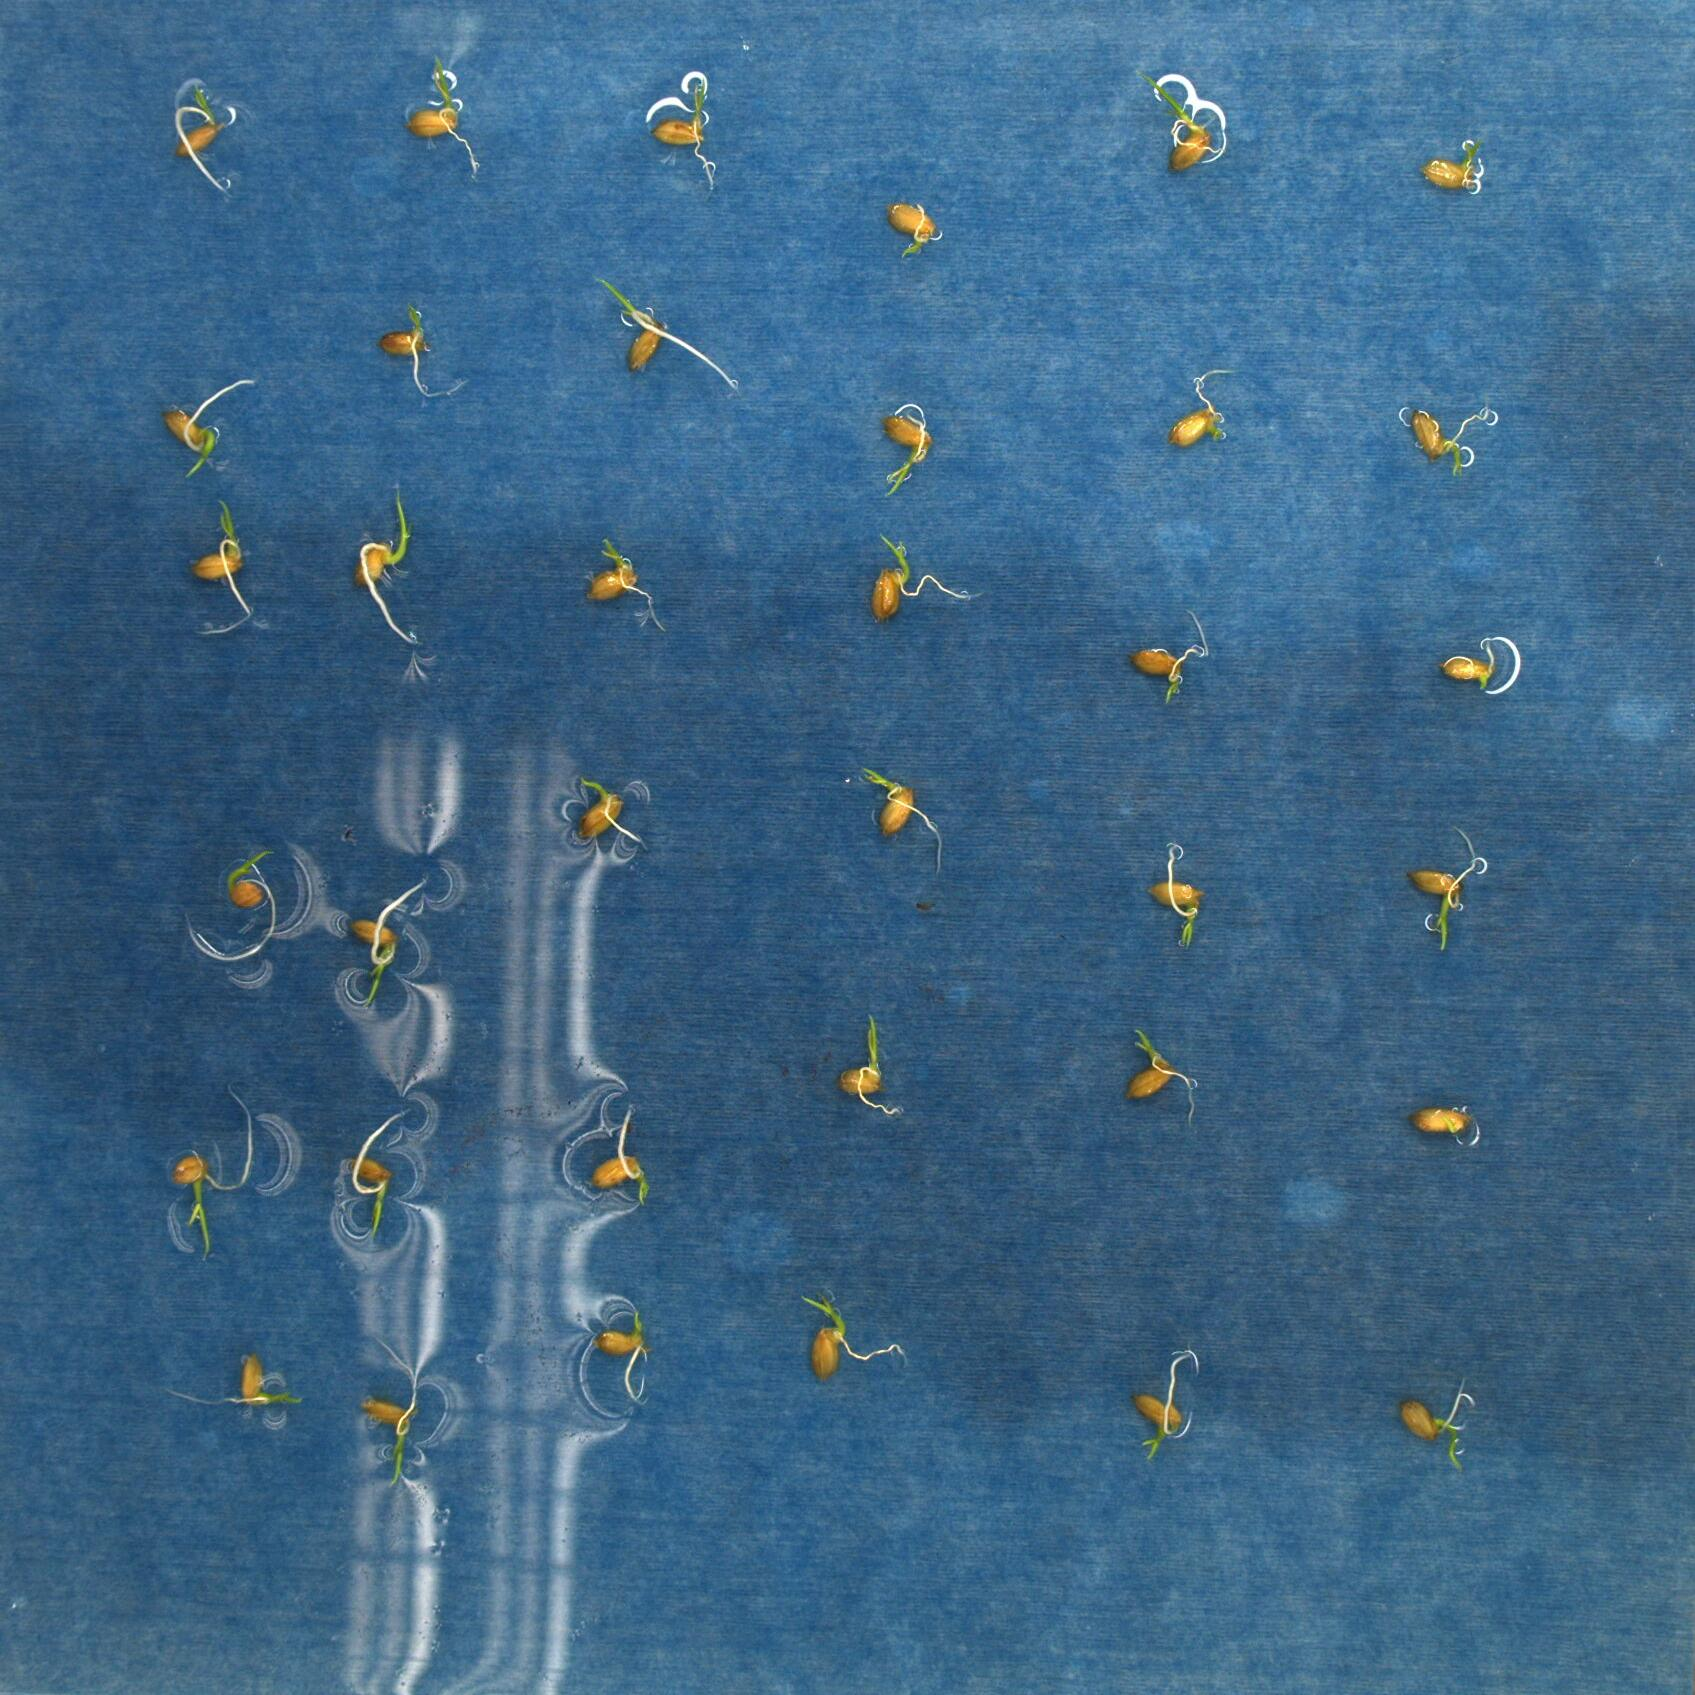not sprout: (1402, 396, 1495, 483), (875, 189, 944, 251), (1436, 643, 1509, 692), (1412, 143, 1475, 192), (227, 858, 276, 910), (1416, 1091, 1468, 1139)
sprout: (601, 270, 754, 407), (335, 487, 439, 649), (386, 54, 498, 189), (149, 1085, 241, 1245), (341, 868, 444, 1003), (787, 1287, 913, 1392), (861, 529, 986, 632), (140, 1350, 296, 1430), (182, 500, 269, 641), (1114, 1012, 1220, 1127), (365, 1341, 442, 1492), (140, 359, 245, 469), (369, 279, 464, 400), (1388, 1360, 1493, 1467), (1149, 70, 1257, 172), (865, 754, 967, 863), (834, 997, 922, 1122), (1127, 1327, 1217, 1450), (346, 1090, 422, 1232), (640, 78, 726, 200), (1146, 349, 1242, 459), (1402, 827, 1485, 948), (151, 90, 244, 188), (574, 529, 666, 627), (581, 1090, 658, 1200), (574, 771, 661, 868), (1144, 818, 1217, 930), (593, 1309, 669, 1416), (868, 397, 942, 503), (1128, 622, 1220, 700)
